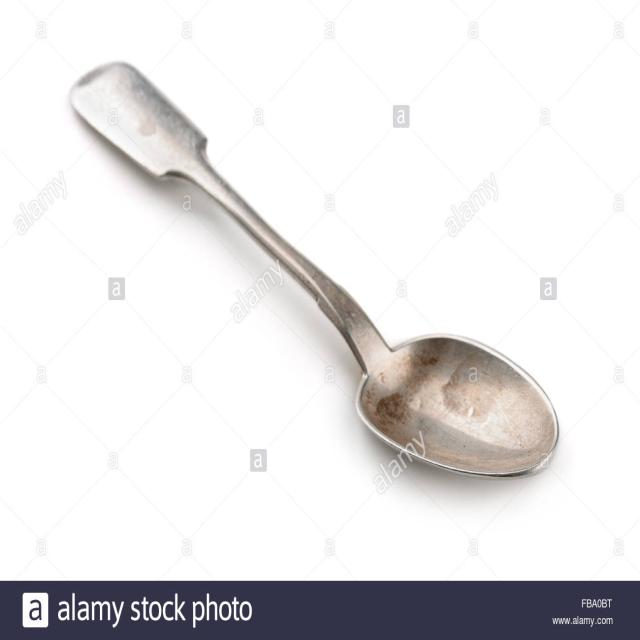spoon: (59, 41, 576, 488)
